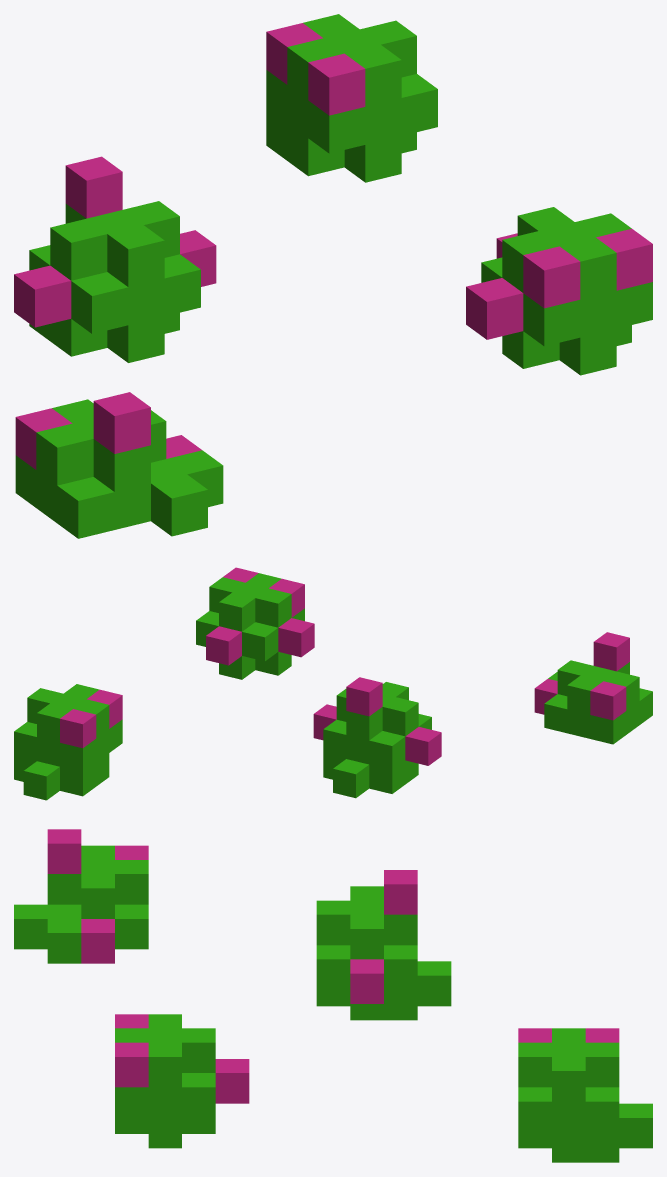
The model's file is bushlet0Berries.obj.
3 renders of one model, top to bottom at view 1: azimuth 30°, elevation 25°; view 2: azimuth 150°, elevation 25°; view 3: azimuth 270°, elevation 25°, orthographic. The views are drawn at different scales.
Bounding box in the file's own units: 18 × 4 × 19.
1 material, 1 textured.
